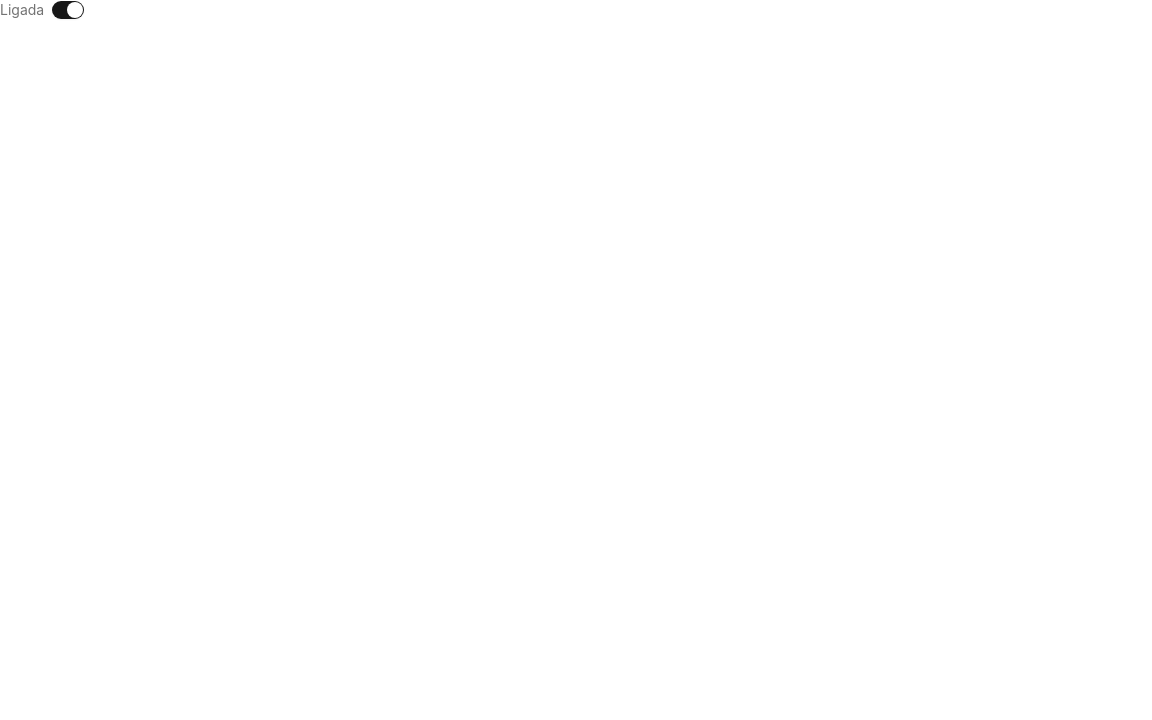
Test case: ExtensionToggle › com gravação: confirma e depois pergunta, descartando
The width and height of the screenshot is (1152, 720).
Later steps or results of the test are not shown.
Click the switch named "Ligar ou desligar a extensão" at (68, 10), box [52,1,84,19]
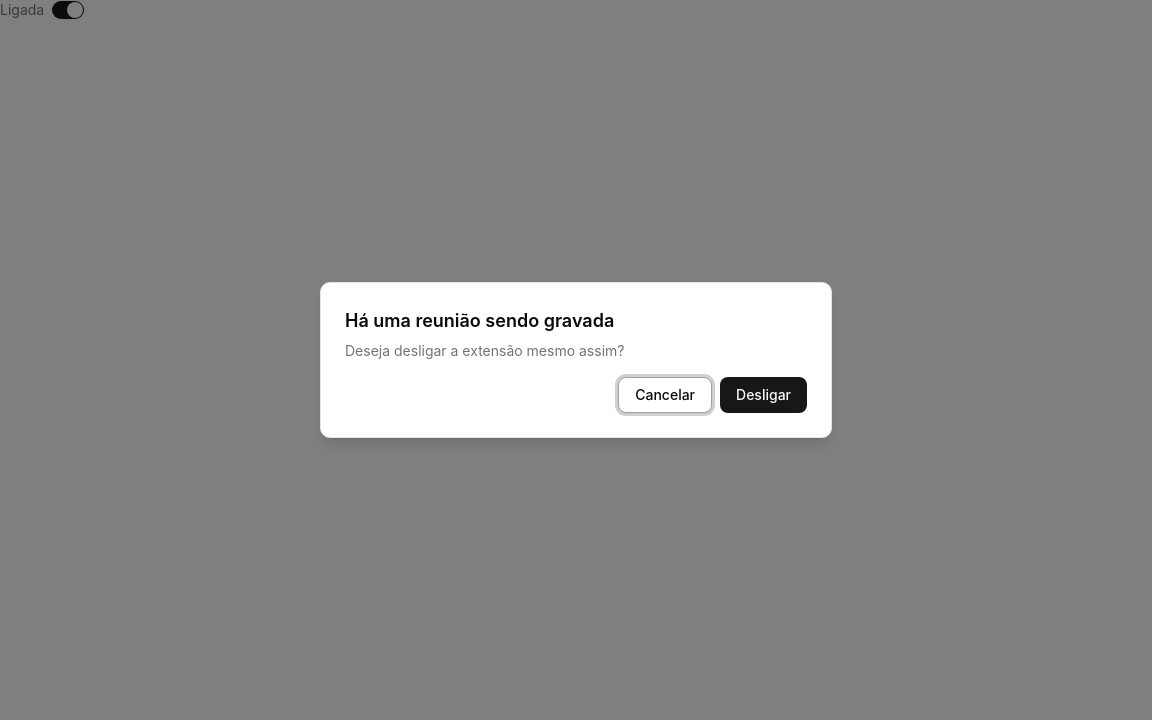
Now the heading "Há uma reunião sendo gravada" is shown, box [345,307,614,335]
Click the button "Desligar" at (764, 395), box [720,377,807,413]
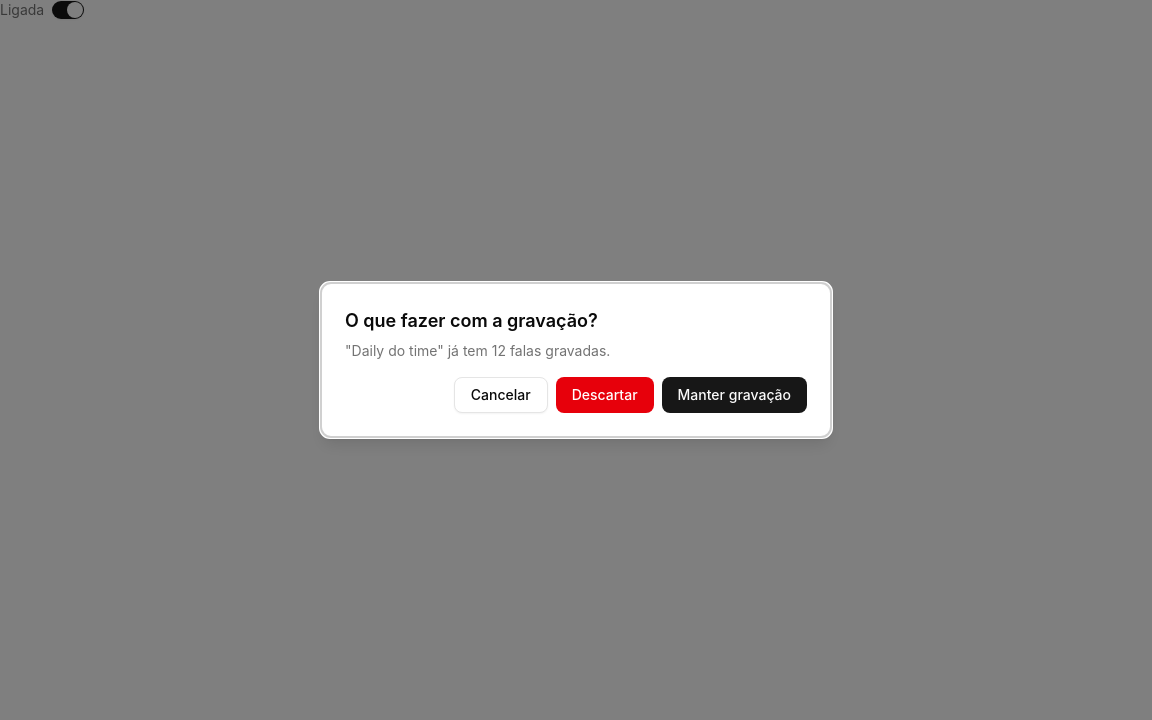
Now the heading "O que fazer com a gravação?" is shown, box [345,307,598,335]
Now the text "\"Daily do time\" já tem 12 falas gravadas." is shown, box [345,341,610,361]
